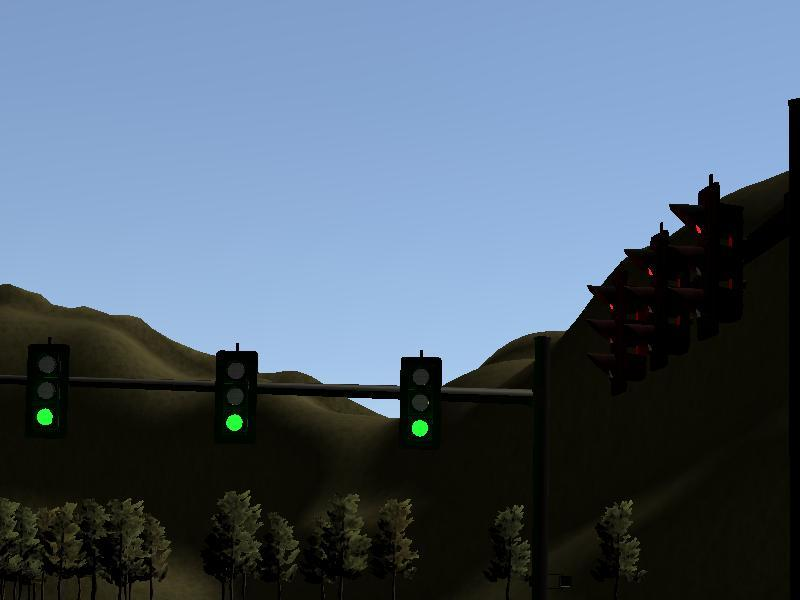Green: (24, 344, 68, 441), (398, 357, 442, 454), (214, 350, 258, 447)
